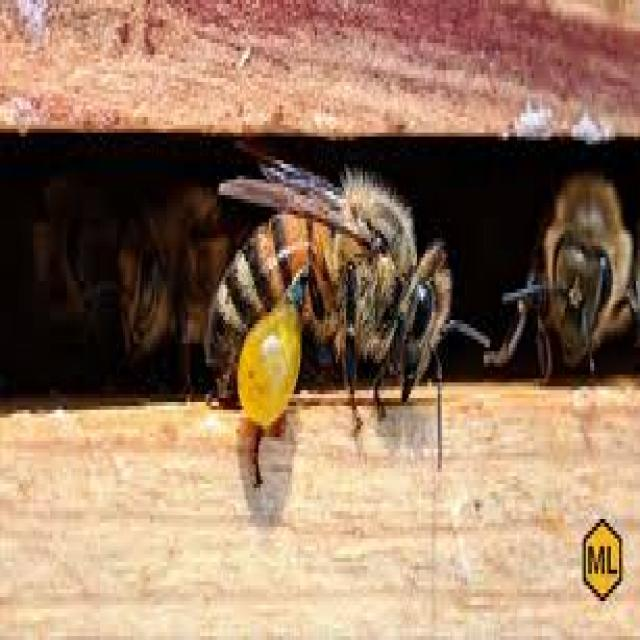Bees: (206, 157, 487, 487)
